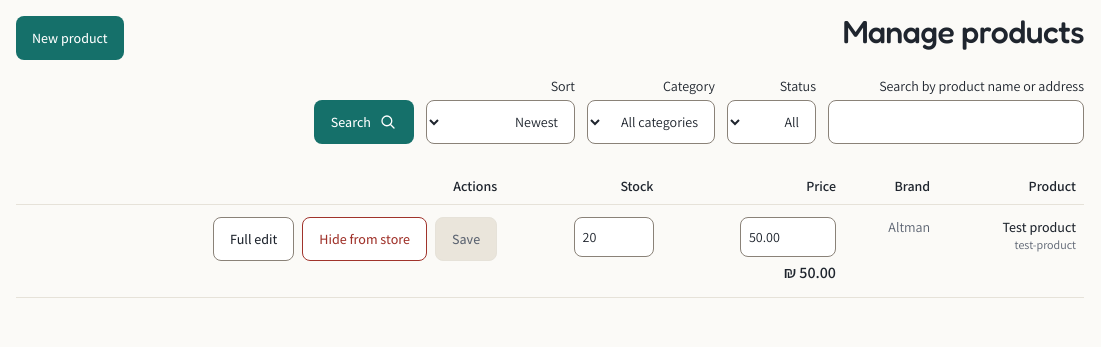
it: 🔴 inline save — only the CHANGED fields travel › 🔴 a bad price SUBMITS and the SERVER’s named refusal lands in the alert region
Expected: the text "Test product" is shown, [1002, 218, 1076, 236]
Replace the text in the 2nd field named "Price for" with "44.9": (788, 237) [740, 217, 836, 257]
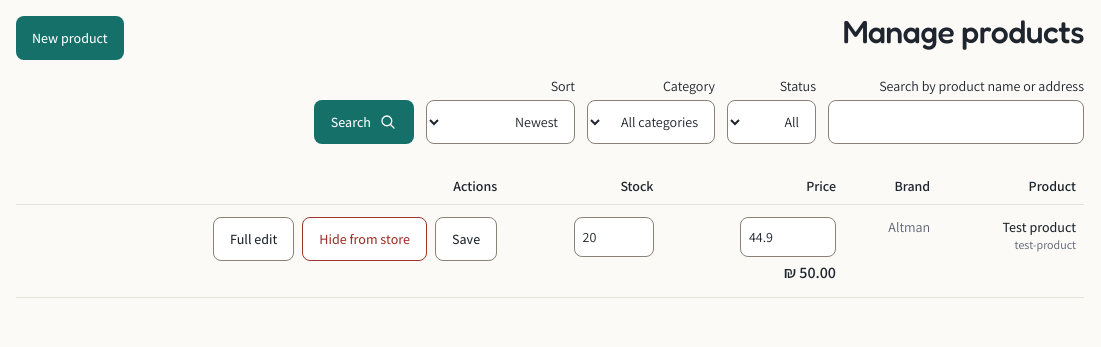
Click the button "Save": (466, 239) [435, 217, 497, 261]
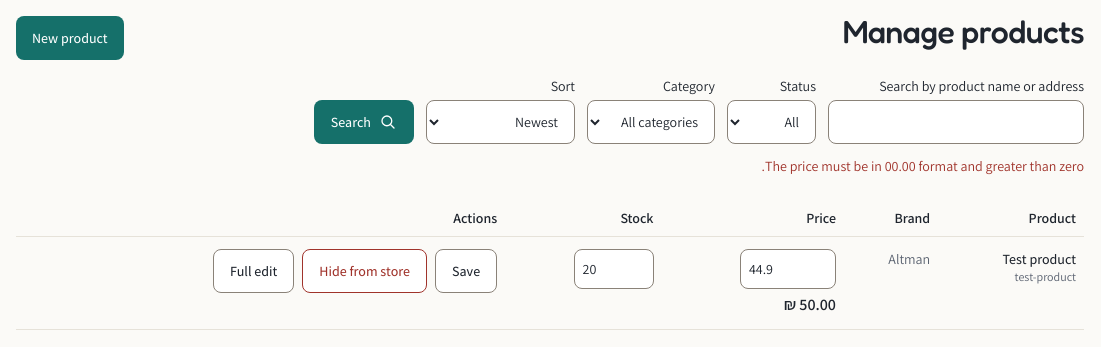
Now the message shows "00.00", box [762, 157, 1084, 175]
